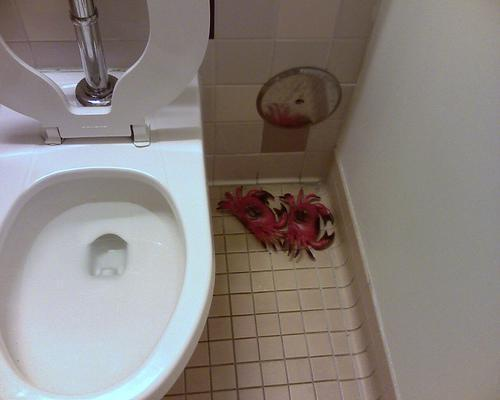Sanitario: (2, 45, 218, 399)
